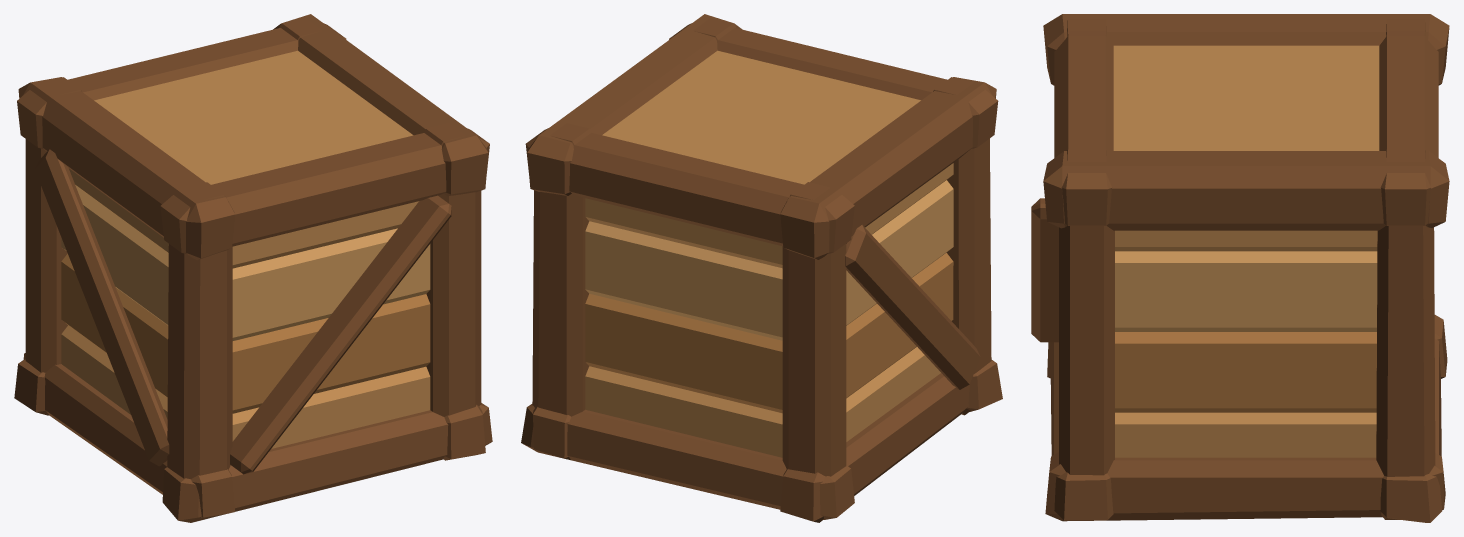
The model's file is crate.glb.
The picture shows the model from 3 angles, left to right: view 1: azimuth 30°, elevation 25°; view 2: azimuth 150°, elevation 25°; view 3: azimuth 270°, elevation 25°; orthographic projection. The views are drawn at different scales.
Parts seen in each view (by area): view 1: crate; view 2: crate; view 3: crate.
Boxes of the visible parts, left/top/right/bottom form: crate: left=14, top=14, right=492, bottom=522; crate: left=521, top=14, right=1002, bottom=522; crate: left=1031, top=14, right=1449, bottom=522.
Size of the model in its own units: 0.5479 by 0.5286 by 0.5639.
